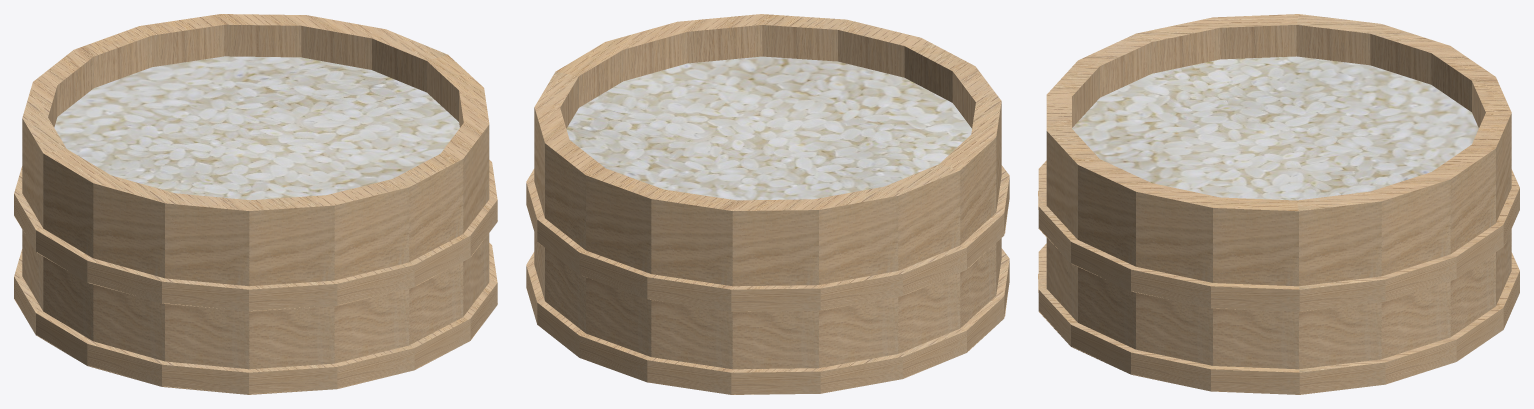
Rendered from sushi_final.obj.
The picture shows the model from 3 angles, left to right: view 1: azimuth 30°, elevation 25°; view 2: azimuth 150°, elevation 25°; view 3: azimuth 270°, elevation 25°; orthographic projection.
Parts seen in each view (by area): view 1: Cylinder, Cylinder.001, Cylinder.003, Cylinder.005; view 2: Cylinder, Cylinder.001, Cylinder.005, Cylinder.003; view 3: Cylinder, Cylinder.001, Cylinder.005, Cylinder.003.
Boxes of the visible parts, left/top/right/bottom form: Cylinder: left=22, top=14, right=489, bottom=369; Cylinder.001: left=54, top=56, right=459, bottom=200; Cylinder.003: left=14, top=243, right=497, bottom=394; Cylinder.005: left=14, top=160, right=497, bottom=311; Cylinder: left=534, top=14, right=1001, bottom=369; Cylinder.001: left=566, top=56, right=971, bottom=200; Cylinder.005: left=526, top=165, right=1009, bottom=311; Cylinder.003: left=526, top=248, right=1009, bottom=394; Cylinder: left=1046, top=14, right=1511, bottom=369; Cylinder.001: left=1072, top=56, right=1478, bottom=200; Cylinder.005: left=1038, top=160, right=1519, bottom=311; Cylinder.003: left=1038, top=243, right=1519, bottom=394.
Bounding box in the file's own units: 2.27 × 0.933 × 2.26.
Materials: 3 (3 with a texture image).
